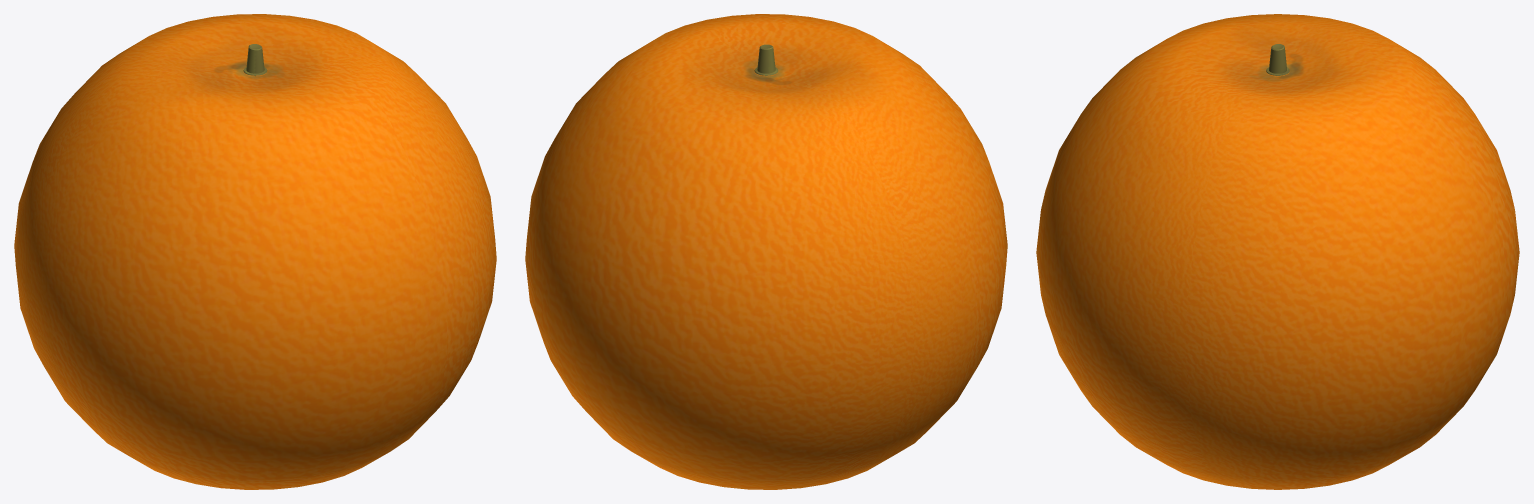
The model's file is orange.fbx.
3 views of the same model, side by side, from view 1: azimuth 30°, elevation 25°; view 2: azimuth 150°, elevation 25°; view 3: azimuth 270°, elevation 25° (orthographic).
Visible parts, largest first — view 1: orange; view 2: orange; view 3: orange.
Part boxes in pixels (left/top/right/bottom): orange: left=14, top=14, right=496, bottom=489; orange: left=525, top=14, right=1007, bottom=489; orange: left=1036, top=14, right=1519, bottom=489.
Size of the model in its own units: 0.3563 by 0.3258 by 0.3563.
